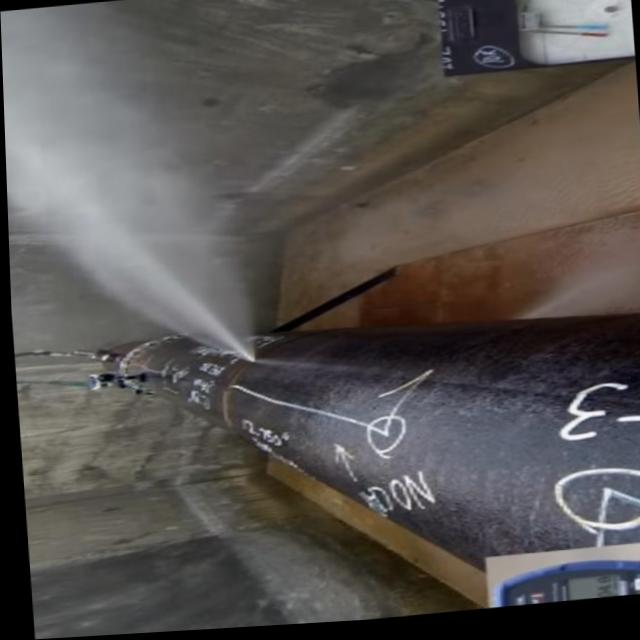leak: (0, 8, 253, 353)
